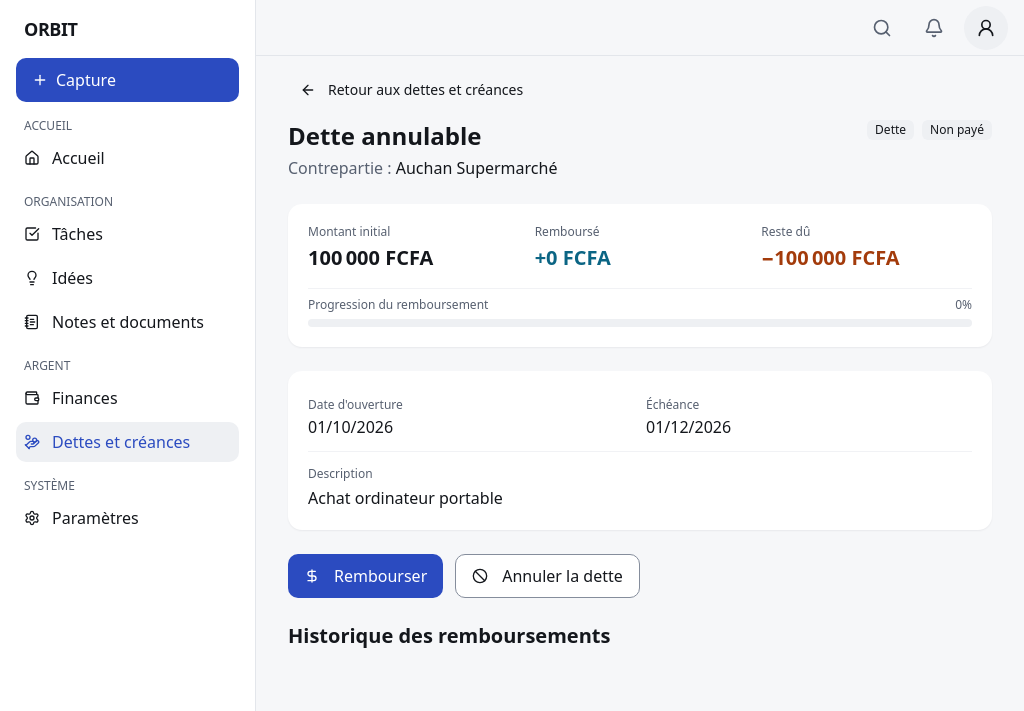
Test: Finance - Dettes et créances (/finance/debts) › cancels an open debt without repayments
The image size is (1024, 711).
Expected: the heading "Dette annulable" is shown, [288,119,482,152]
Click the button "Annuler la dette" at (548,576), box [455,554,640,598]
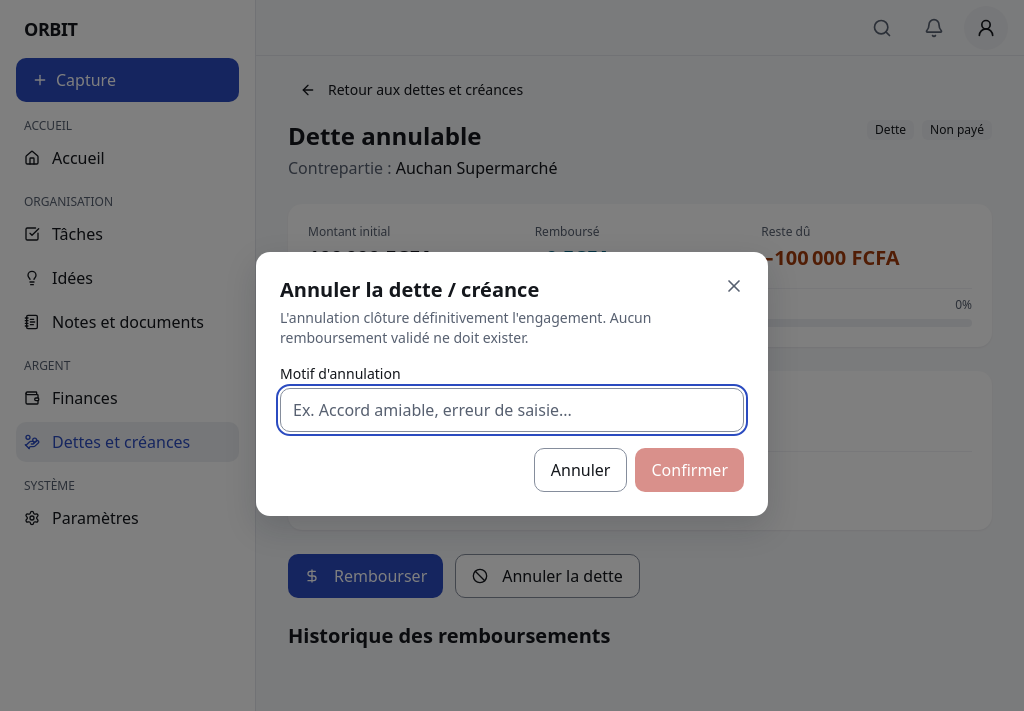
Now the heading "Annuler la dette / créance" is shown, box [280,276,539,303]
Type "Annulation par accord mutuel des parties" into the field labelled "Motif d'annulation" at (512,410), box [280,388,744,432]
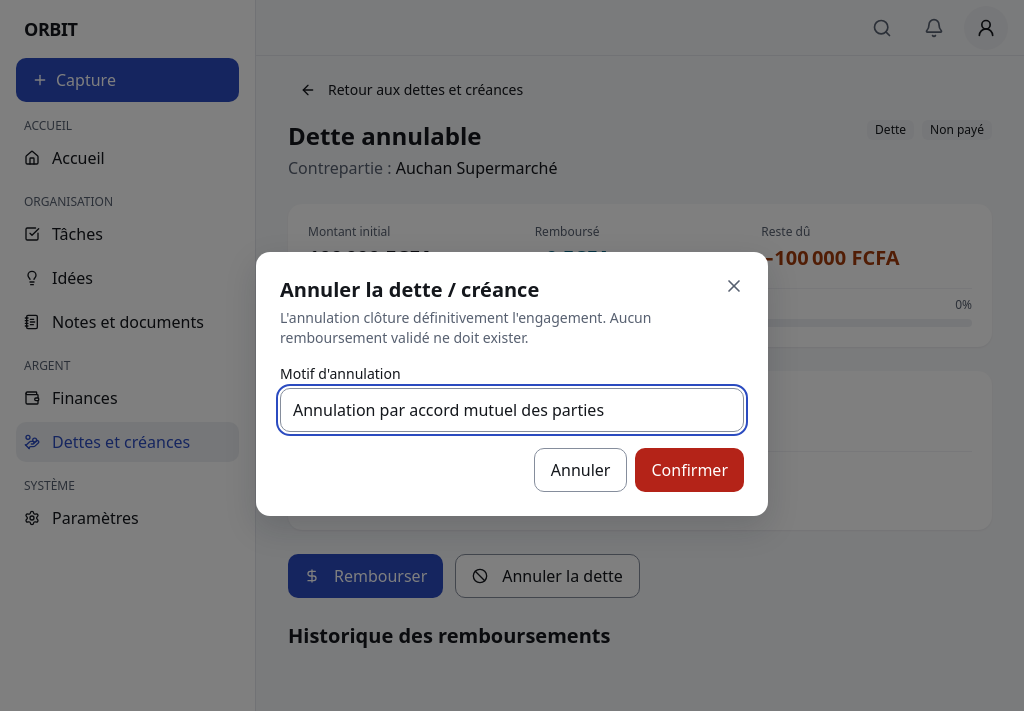
Click the button "Confirmer" at (690,470), box [636,448,744,492]
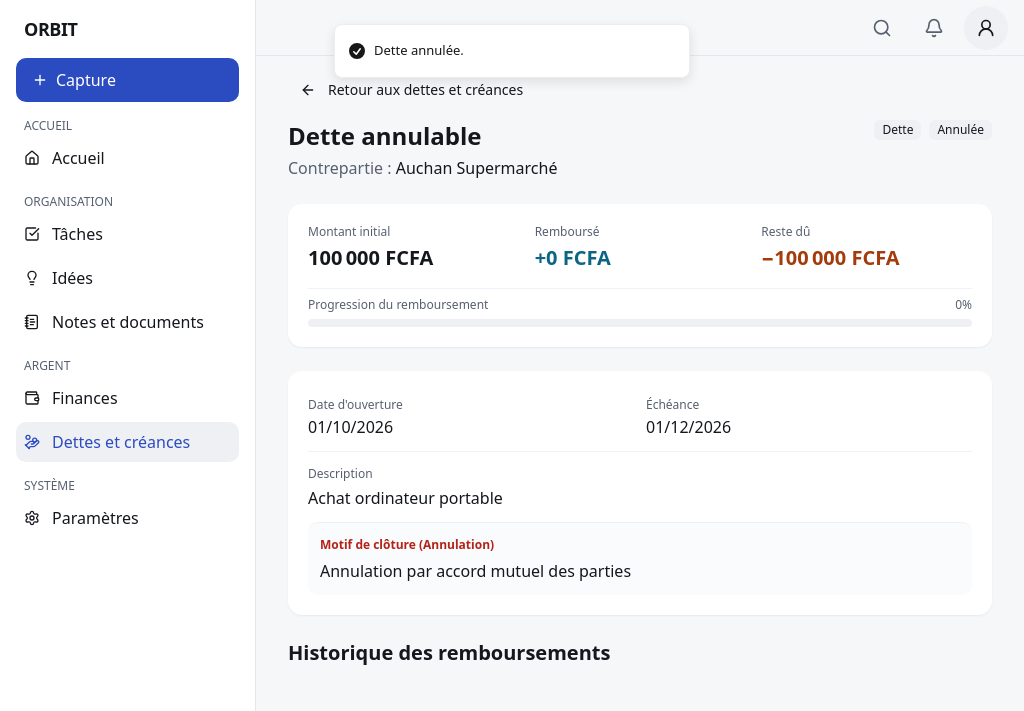
Now the heading "Annuler la dette / créance" is gone
Now the text "Annulée" is shown, box [929,120,992,140]
Now the text "Annulation par accord mutuel des parties" is shown, box [320,560,631,582]
